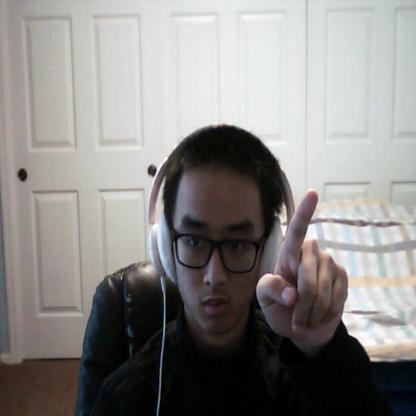finger_point: (281, 189, 320, 256)
